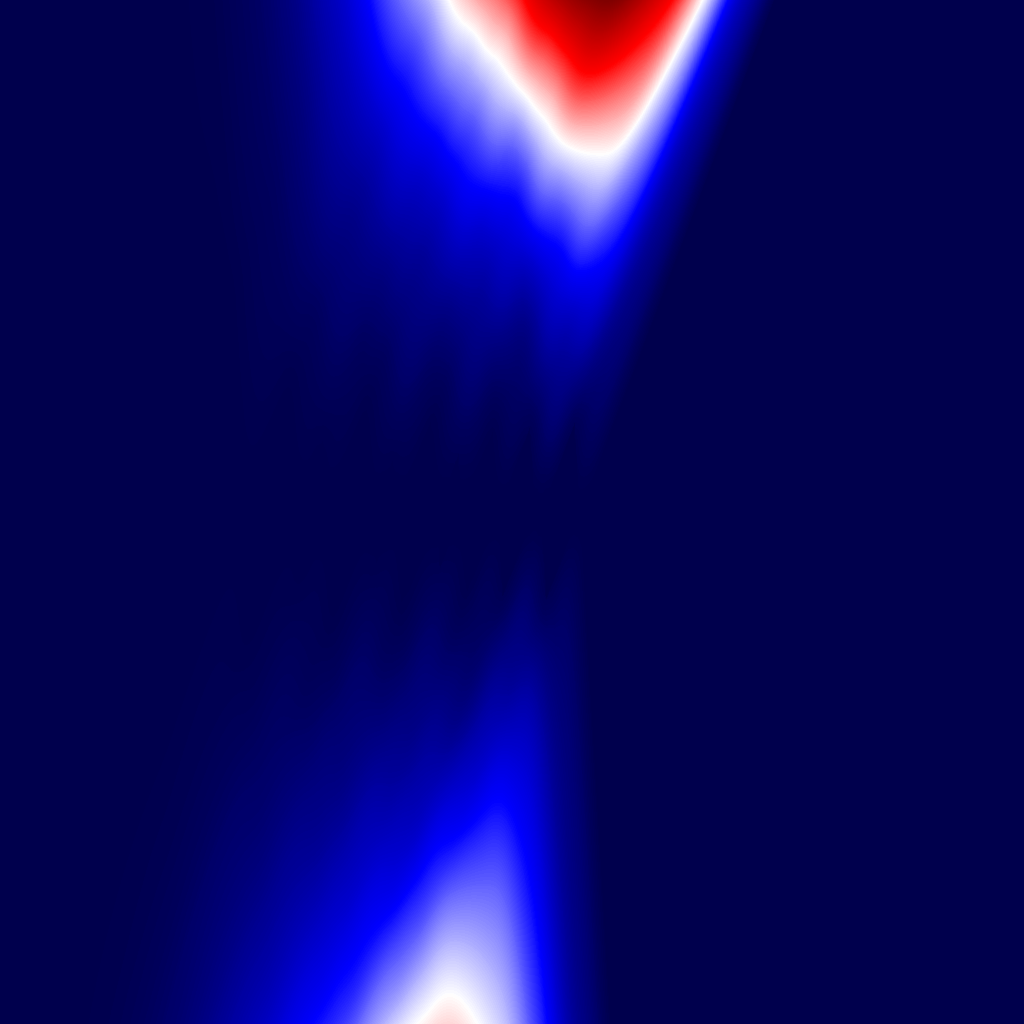diamond: (150, 292, 245, 732), (247, 391, 299, 633), (331, 408, 376, 616), (400, 420, 440, 604), (544, 422, 583, 602), (501, 426, 538, 598), (466, 431, 501, 593), (299, 439, 331, 585), (440, 454, 465, 570), (376, 459, 399, 565), (539, 500, 544, 524)
